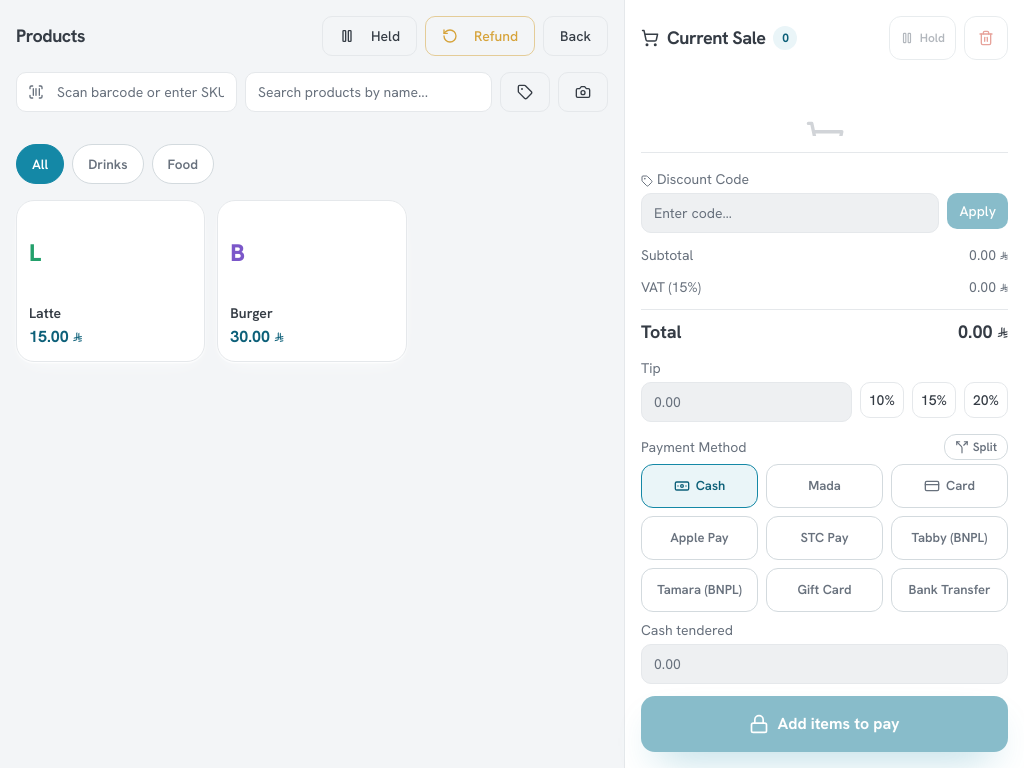
Scenario: POSTerminal selected-state a11y (#226) › exposes the active category chip via aria-pressed
The width and height of the screenshot is (1024, 768).
Click the button "Drinks". click: (108, 164)
box: [72,144,144,184]
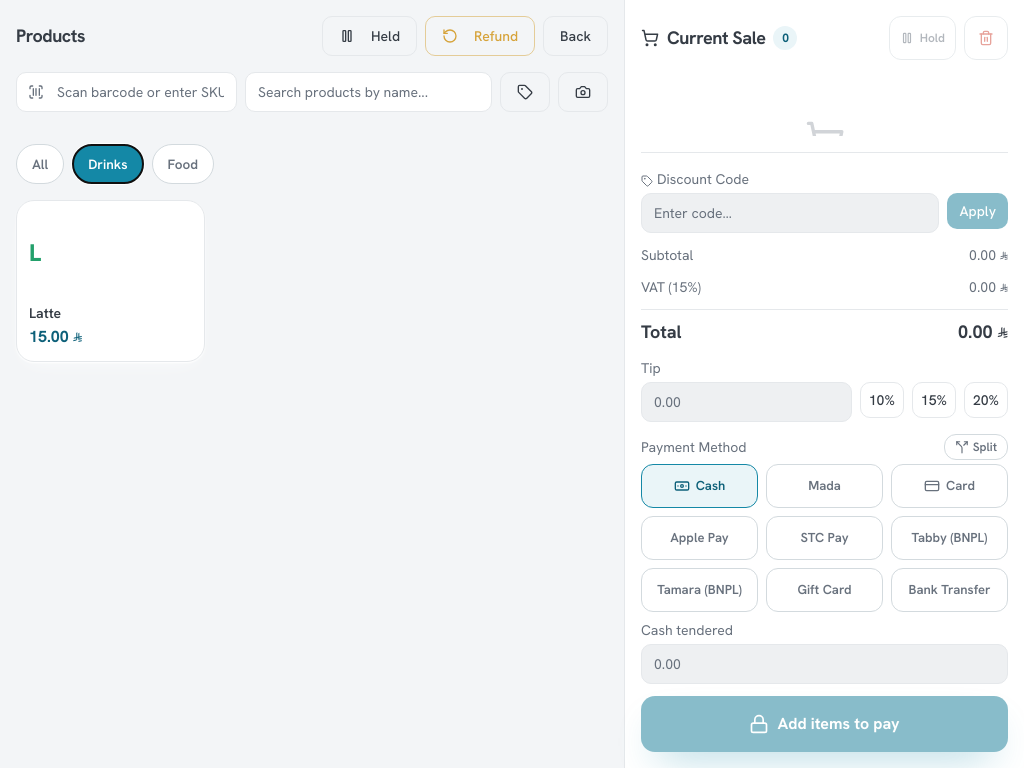
Result: the button "Drinks" is pressed at [72,144,144,184]
Result: the button "All" is not pressed at [16,144,64,184]
